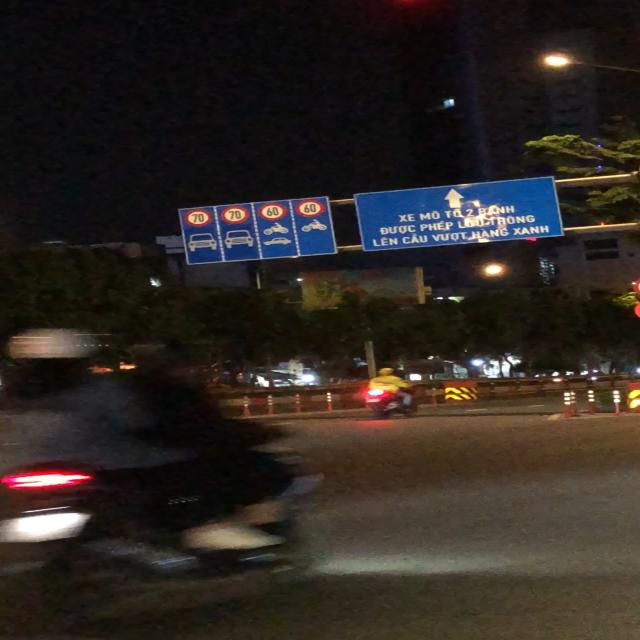Bien bao toc do toi da cho phep: (256, 202, 291, 222), (180, 208, 214, 228), (218, 205, 251, 224), (294, 199, 328, 217)
